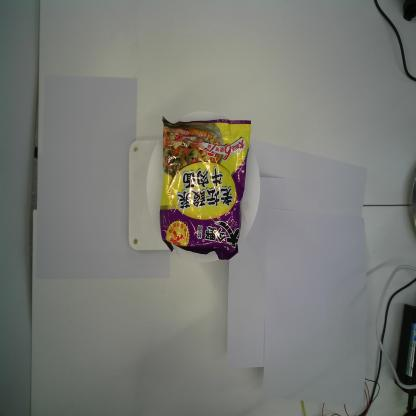Instant Noodles: (158, 113, 252, 262)
